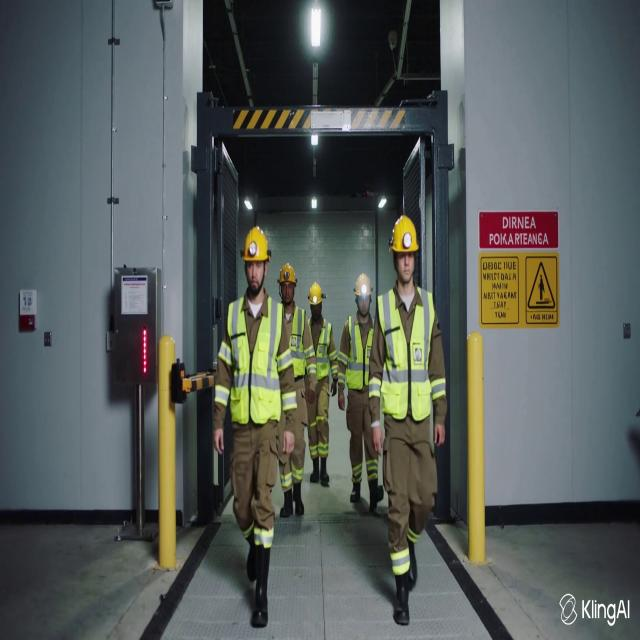Vest: (378, 288, 434, 421), (228, 297, 282, 424), (346, 316, 373, 390), (290, 306, 305, 377), (316, 319, 331, 381)
Worker: (214, 227, 296, 626), (370, 216, 446, 624), (338, 274, 383, 512), (279, 264, 316, 517), (308, 283, 337, 486)
helmet: (389, 215, 418, 253), (242, 227, 270, 261), (279, 264, 296, 285), (355, 274, 371, 296), (309, 283, 325, 304)
